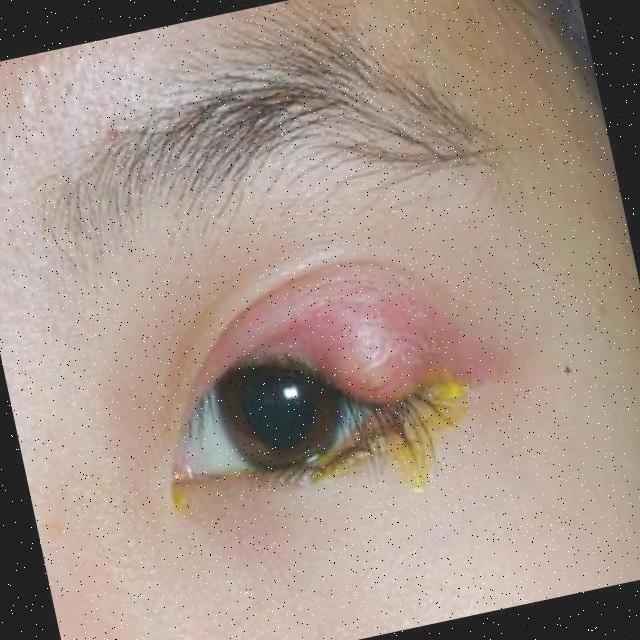Stye: (162, 223, 492, 450)
